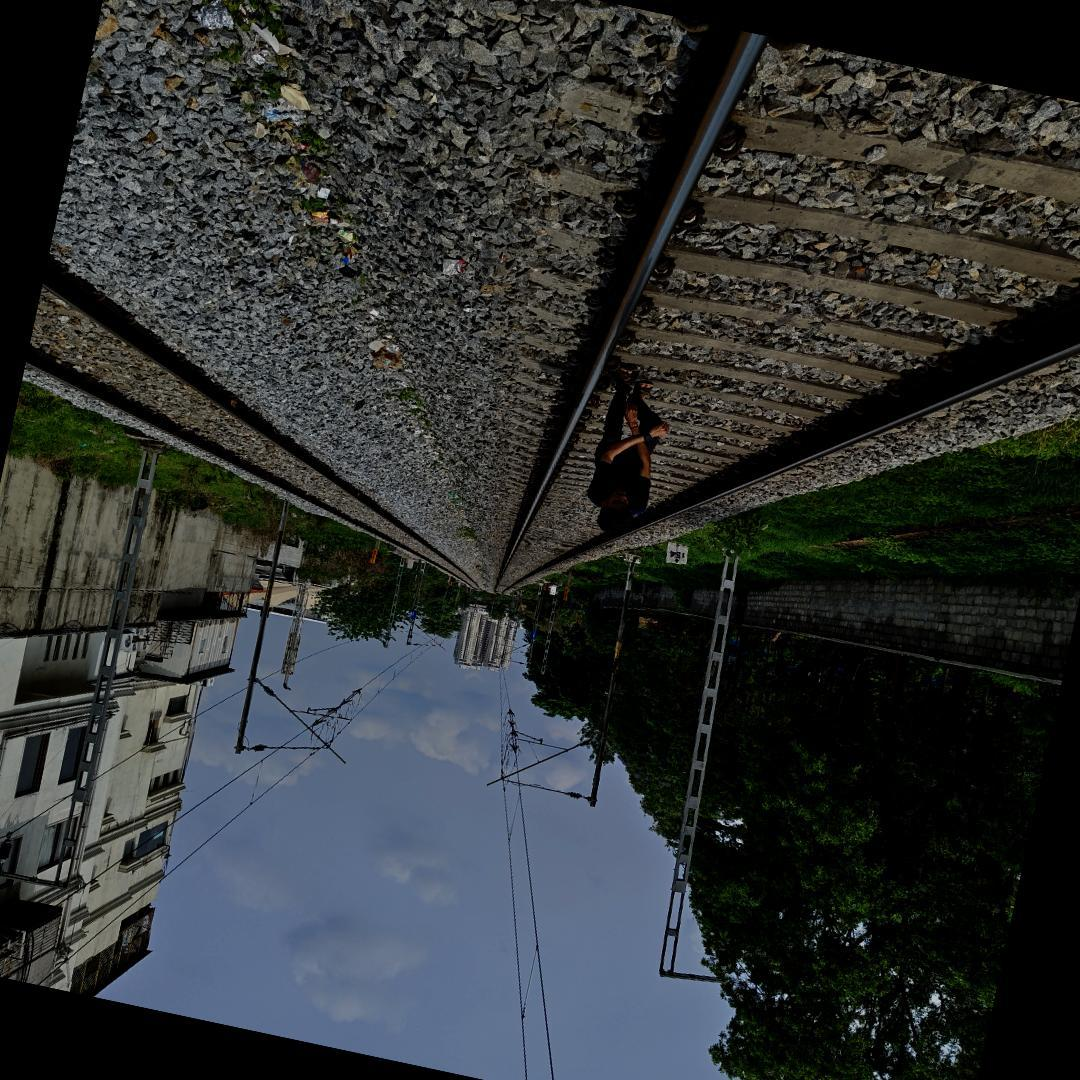sitting: (564, 354, 691, 550)
track: (478, 0, 1080, 594)
